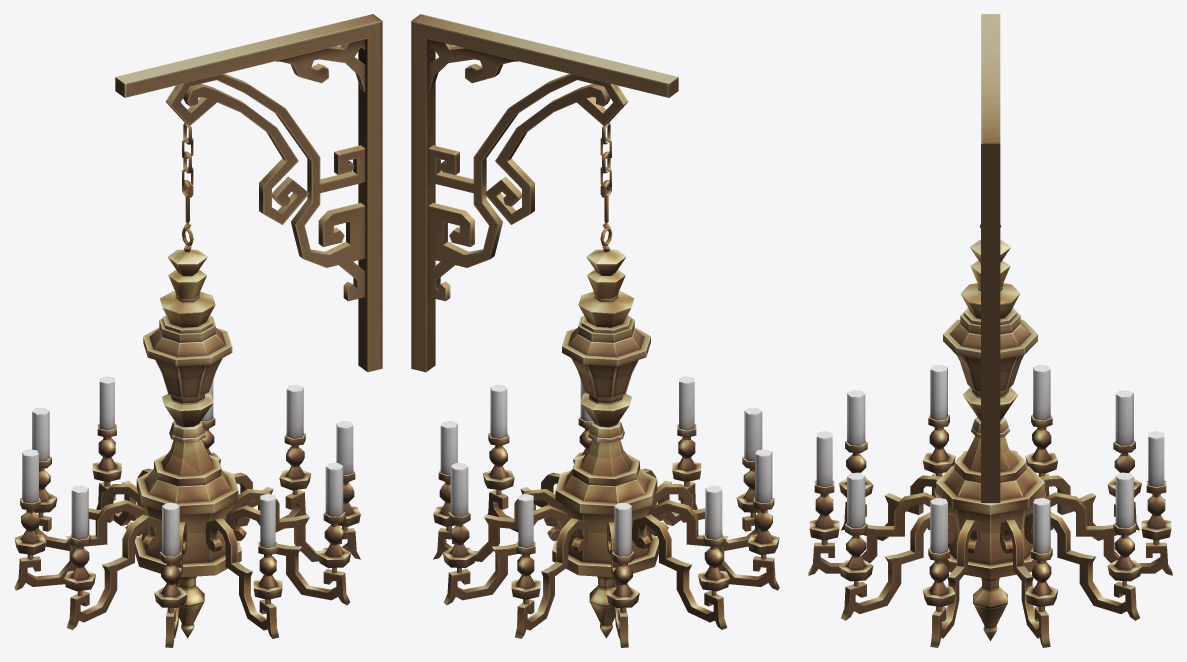
Rendered from my_gehennaparty_01_chandelier_01.glb.
3 renders of one model, left to right at view 1: azimuth 30°, elevation 25°; view 2: azimuth 150°, elevation 25°; view 3: azimuth 270°, elevation 25°, orthographic. The views are drawn at different scales.
Parts seen in each view (by area): view 1: my_gehennaparty_01_chandelier_01; view 2: my_gehennaparty_01_chandelier_01; view 3: my_gehennaparty_01_chandelier_01.
Part boxes in pixels (box(x1,y1,x2,y2)): my_gehennaparty_01_chandelier_01: box(14, 14, 382, 647); my_gehennaparty_01_chandelier_01: box(411, 14, 779, 647); my_gehennaparty_01_chandelier_01: box(808, 14, 1172, 647).
Bounding box in the file's own units: 0.00925 × 0.0151 × 0.00839.
1 material, 1 textured.
